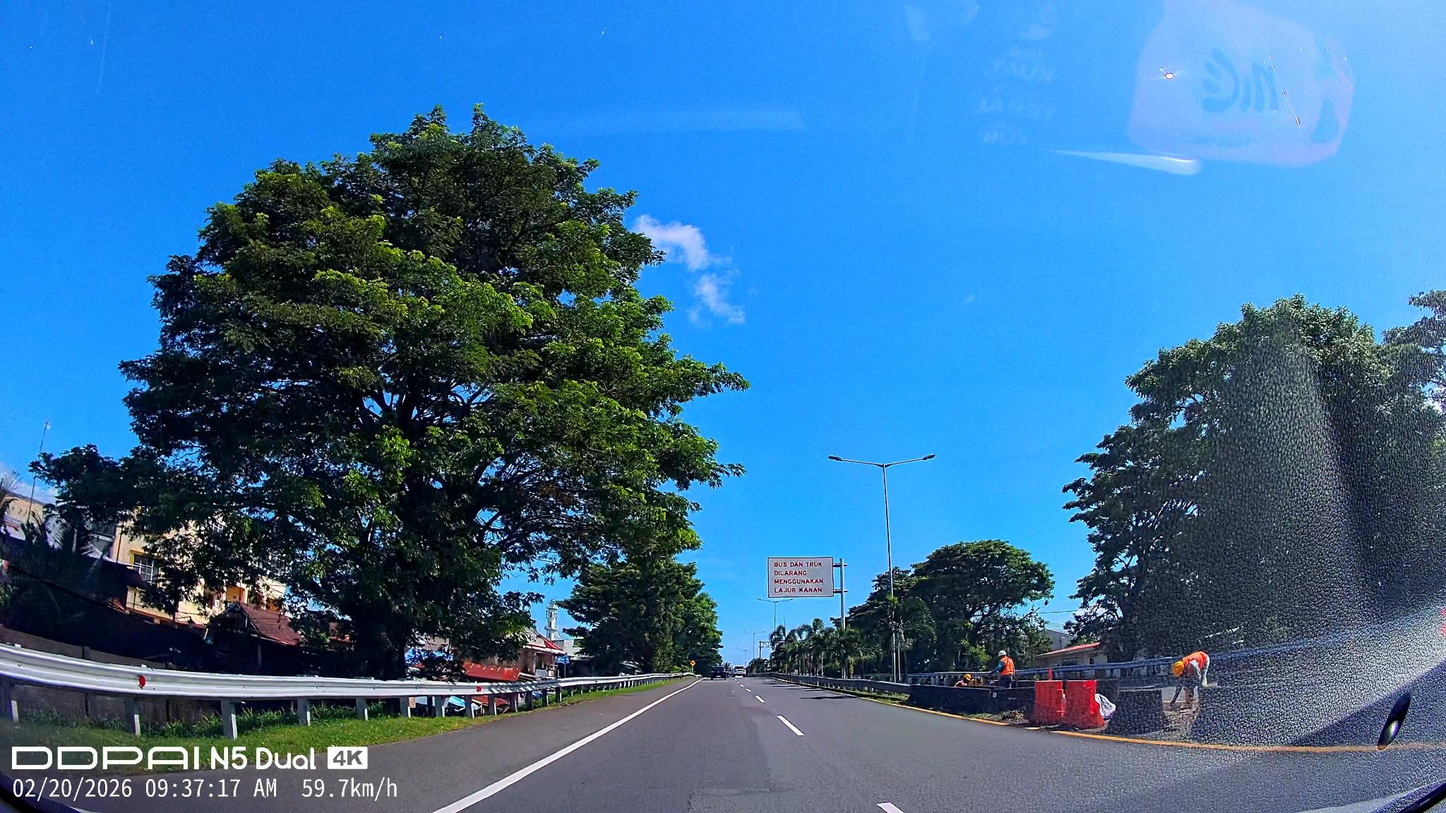rambu_teks: (767, 556, 835, 598)
